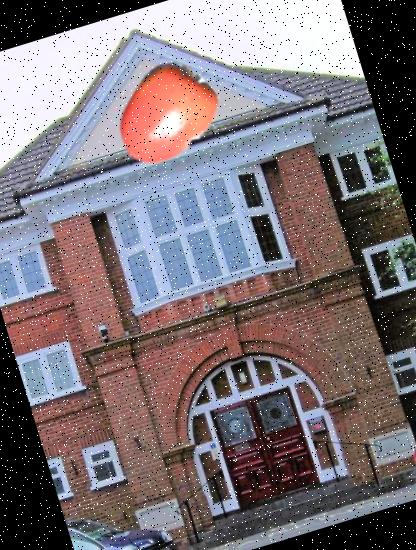Kaki: (96, 45, 231, 180)
